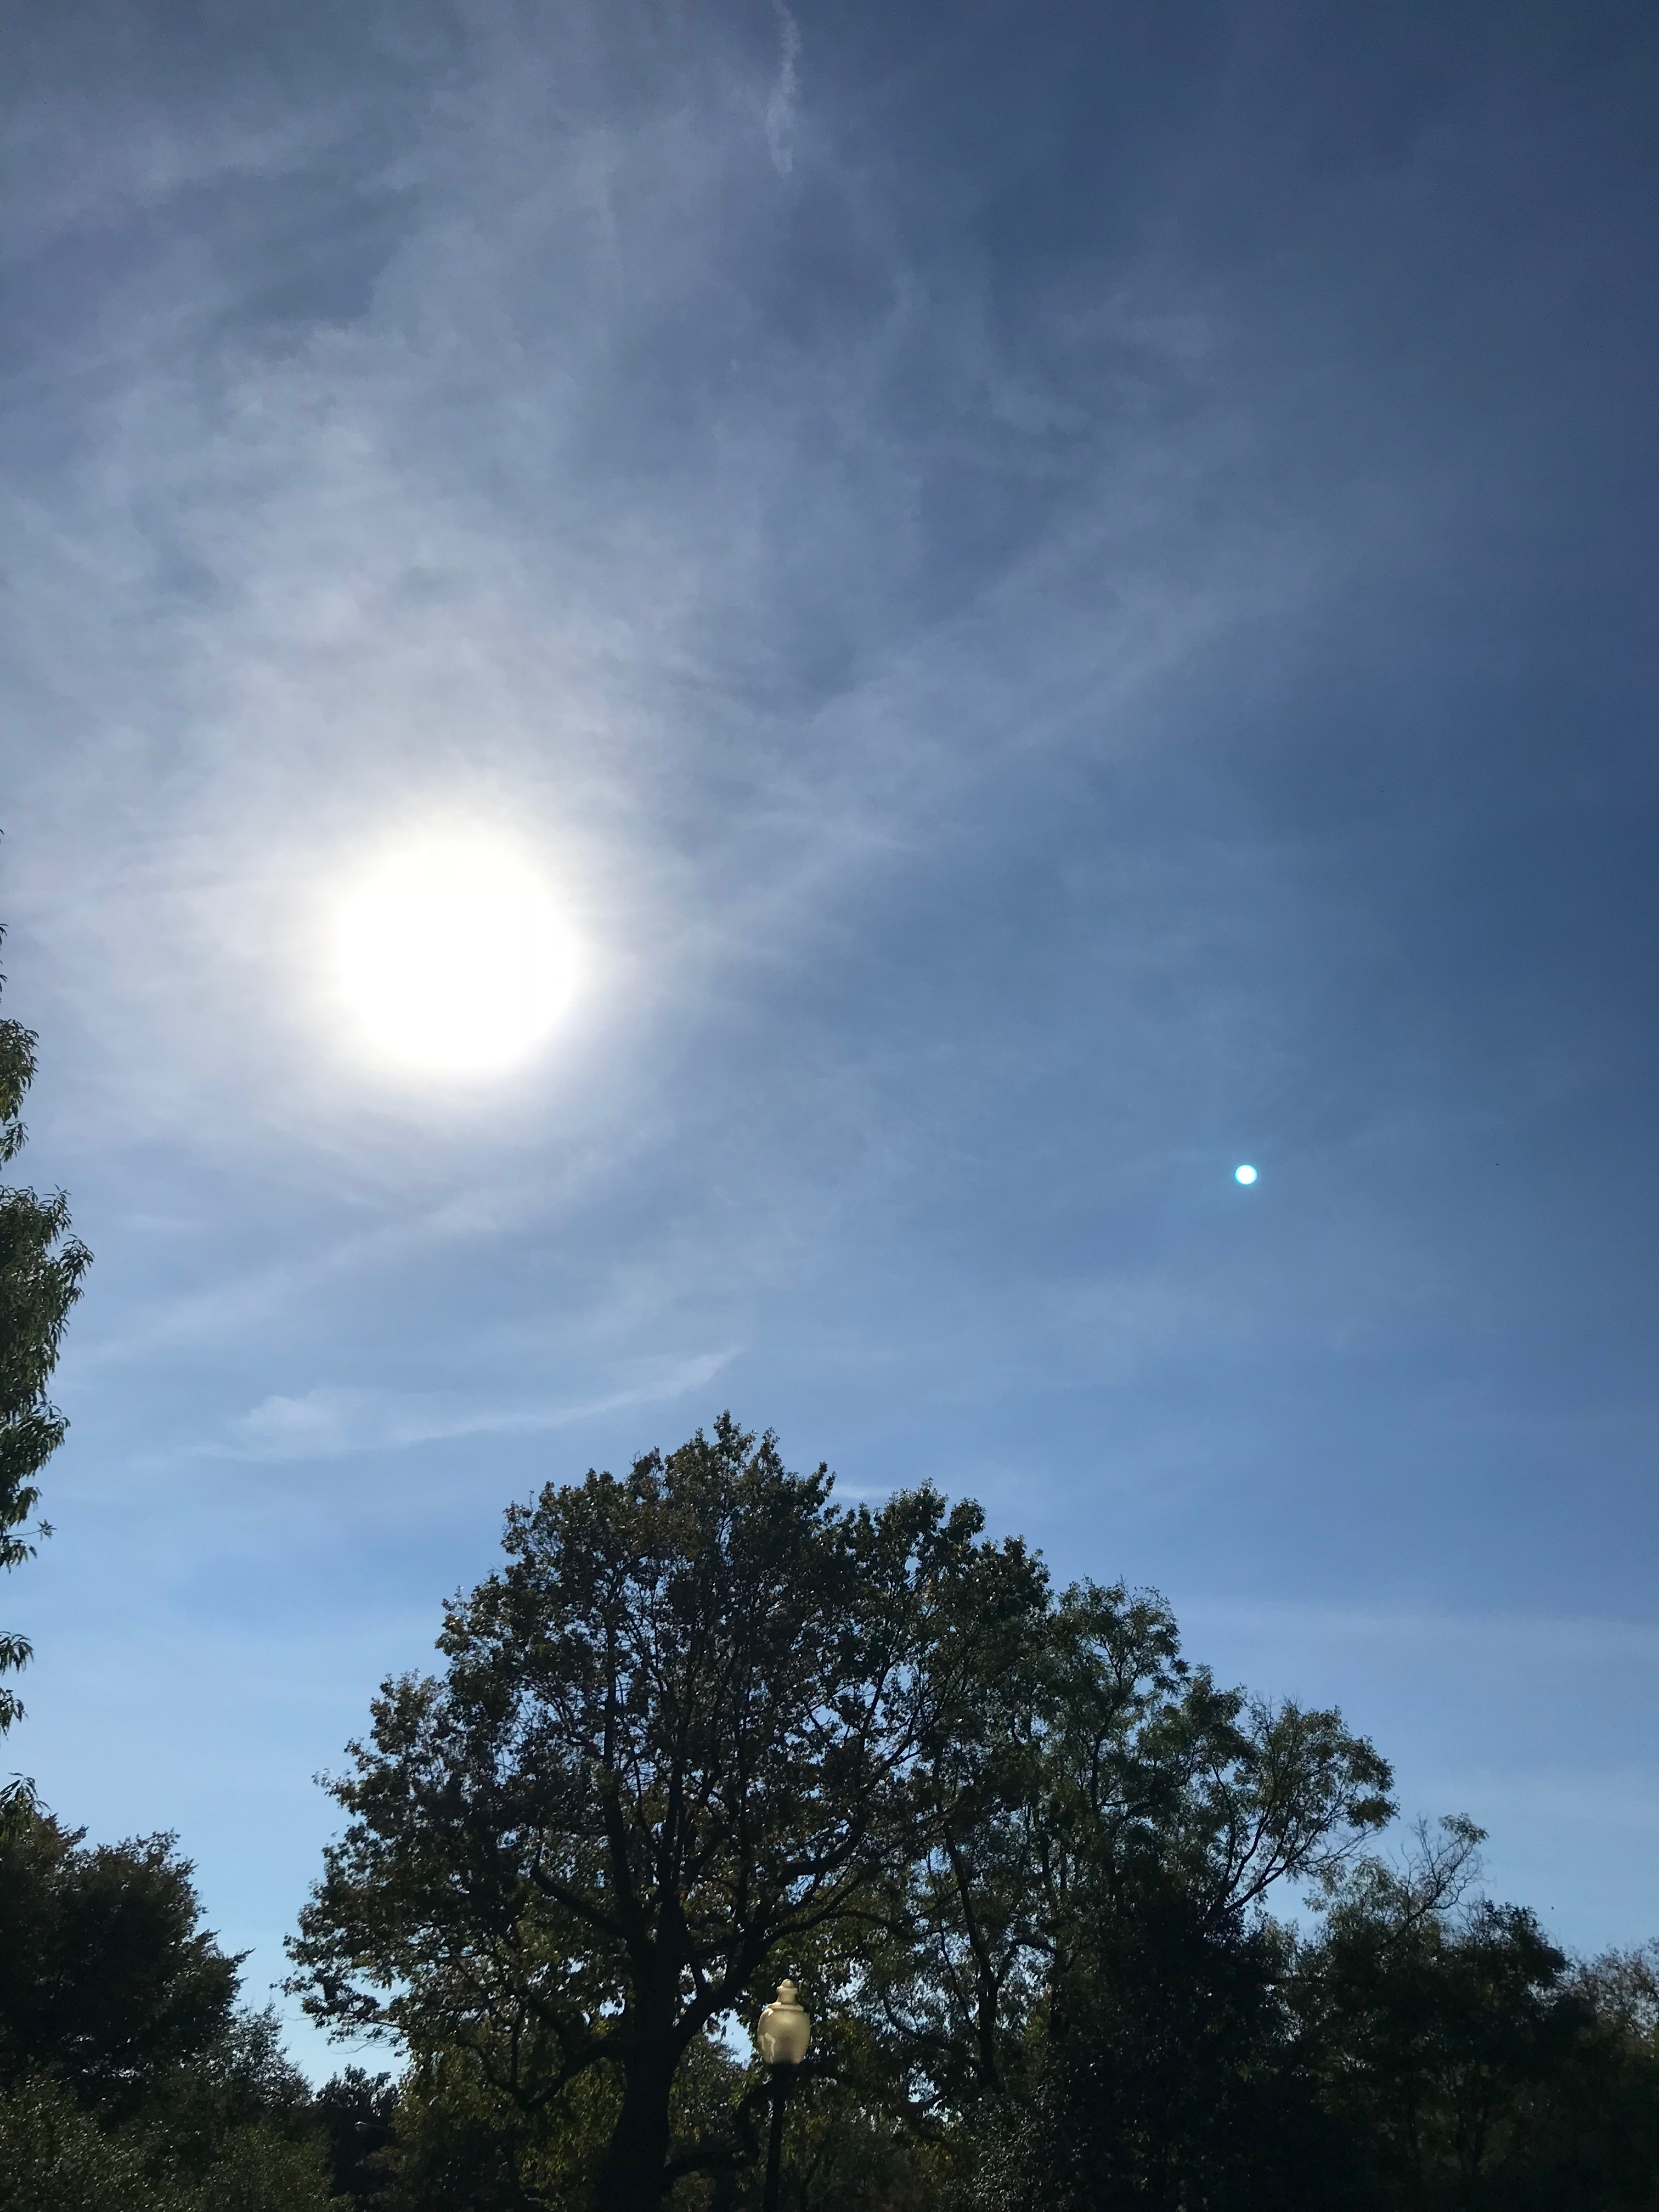flare: (1234, 1162, 1260, 1188)
